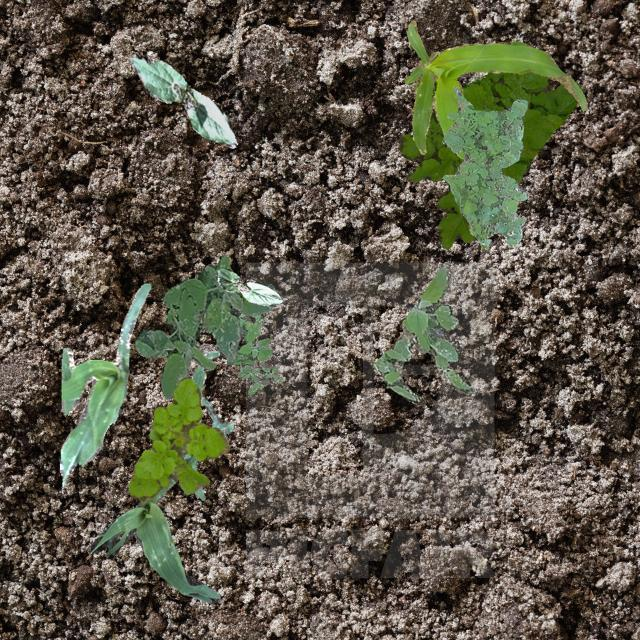crop: (90, 419, 232, 602), (404, 20, 586, 158), (59, 282, 150, 480), (128, 54, 236, 146), (190, 350, 220, 500), (216, 266, 282, 304)
weed: (398, 70, 576, 248), (134, 255, 274, 398), (372, 262, 471, 402), (442, 85, 526, 248), (128, 376, 228, 499), (226, 311, 282, 394)
